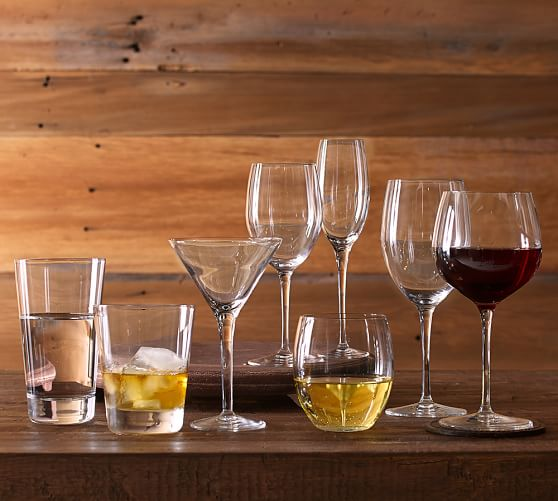Nonrec_Glass: (428, 185, 542, 438), (170, 229, 279, 443), (384, 176, 475, 421), (237, 151, 318, 366), (307, 122, 379, 361), (15, 248, 105, 425), (87, 294, 195, 438), (288, 308, 405, 431)
